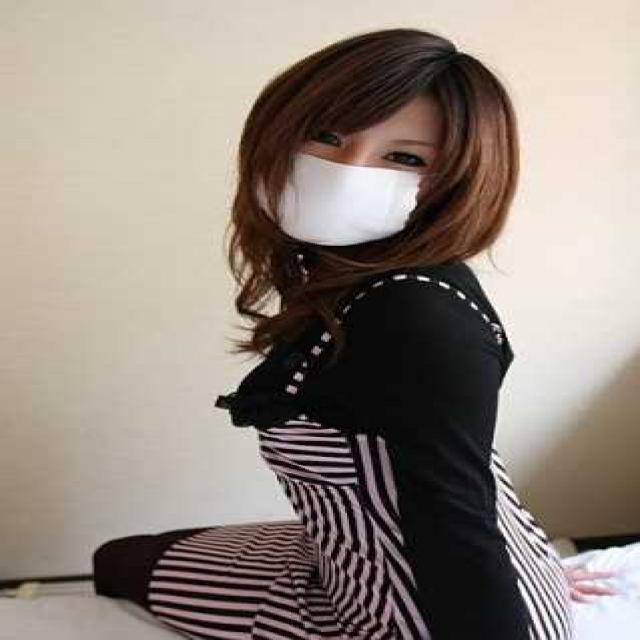mask: (261, 78, 433, 243)
